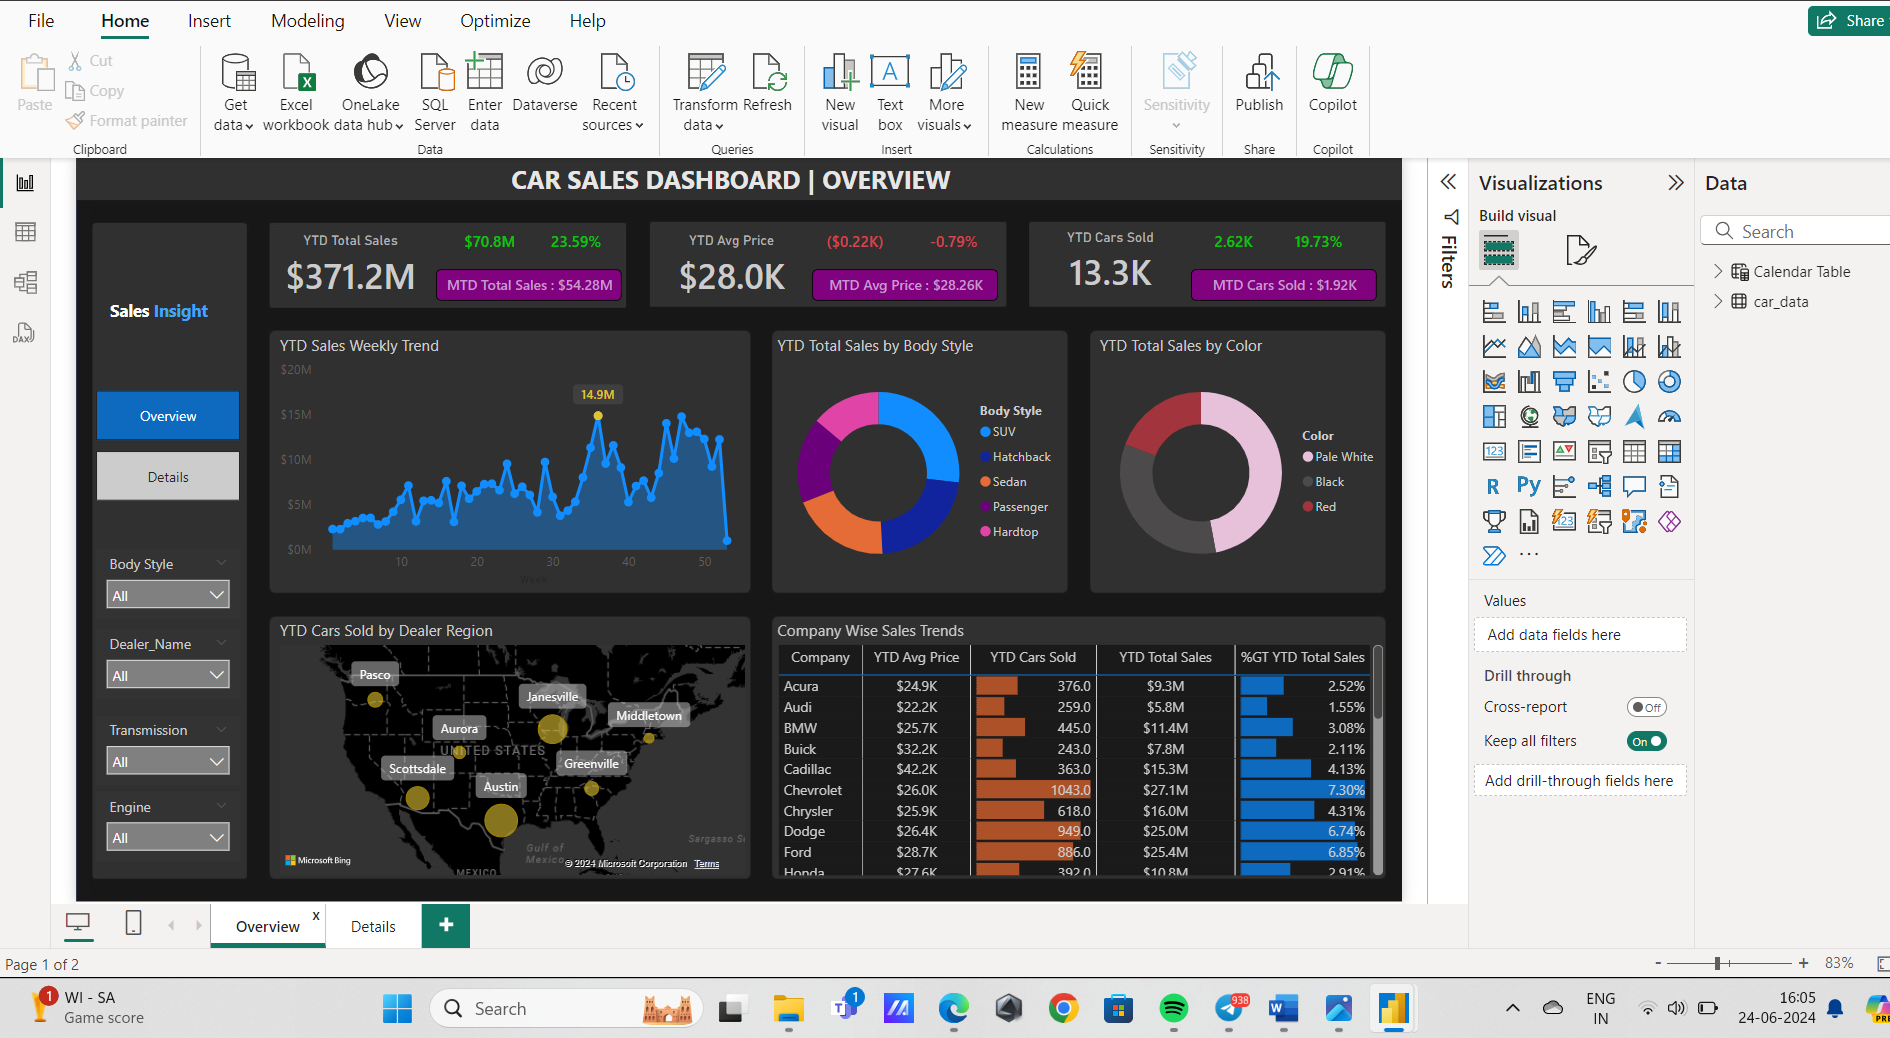

Layout of this report page (visuals, bound fields, positions):
{"tool":"powerbi","page":{"name":"Overview","canvas":[1280,720],"ordinal":0},"visuals":[{"type":"card","title":"YTD Total Sales","fields":{"Values":["car_data.YTD Total Sales"]},"box":[186.9,72.6,155.9,68.2],"z":0},{"type":"card","fields":{"Values":["car_data.Sales Difference"]},"box":[358.9,65.2,82.7,35],"z":1000},{"type":"card","fields":{"Values":["car_data.YoY Sales Growth"]},"box":[441.6,65.2,82.7,35],"z":2000},{"type":"card","fields":{"Values":["car_data.MTD KPI"]},"box":[347.2,107,179,30.2],"z":3000},{"type":"card","title":"YTD Avg Price","fields":{"Values":["car_data.YTD Avg Price"]},"box":[554.4,72.9,155.6,68.1],"z":4000},{"type":"card","fields":{"Values":["car_data.Avg Price Diff"]},"box":[710,65.2,82.7,35],"z":5000},{"type":"card","fields":{"Values":["car_data.YoY Avg Price Growth"]},"box":[805.3,65.2,82.7,35],"z":6000},{"type":"card","fields":{"Values":["car_data.MTD Avg Price KPI"]},"box":[710,107,179,30.2],"z":7000},{"type":"card","title":"YTD Cars Sold","fields":{"Values":["car_data.YTD Cars Sold"]},"box":[920.1,69.1,155.6,68.1],"z":8000},{"type":"card","fields":{"Values":["car_data.Cars Sold Diff"]},"box":[1075.7,65.2,82.7,35],"z":9000},{"type":"card","fields":{"Values":["car_data.YoY Car Sold Growth"]},"box":[1158.4,65.2,82.7,35],"z":10000},{"type":"card","fields":{"Values":["car_data.MTD Cars Sold KPI"]},"box":[1075.7,107,179,30.2],"z":11000},{"type":"areaChart","title":"YTD Sales Weekly Trend","fields":{"Category":["Calendar Table.Week"],"Y":["Sum(car_data.Price ($))","car_data.Max Point on Area Chart"]},"box":[191.6,170.2,459.1,248],"z":12000},{"type":"donutChart","fields":{"Category":["car_data.Body Style"],"Y":["car_data.YTD Total Sales"]},"box":[672.2,170,283.4,248],"z":13000},{"type":"donutChart","fields":{"Y":["car_data.YTD Total Sales"],"Category":["car_data.Color"]},"box":[983,170,283.4,248],"z":14000},{"type":"map","fields":{"Category":["car_data.Dealer_Region"],"Size":["car_data.YTD Cars Sold"]},"box":[191.3,444.6,458.7,252.4],"z":15000},{"type":"tableEx","title":"Company Wise Sales Trends ","fields":{"Values":["car_data.Company","car_data.YTD Avg Price","car_data.YTD Cars Sold","car_data.YTD Total Sales1","car_data.YTD Total Sales"]},"box":[672.2,444.6,594.2,252.4],"z":16000},{"type":"textbox","box":[414.5,0,447.2,41.6],"z":17000},{"type":"slicer","fields":{"Values":["car_data.Body Style"]},"box":[19.5,377.3,139,67.3],"z":18000},{"type":"slicer","fields":{"Values":["car_data.Dealer_Name"]},"box":[19.5,454.3,139,67.3],"z":19000},{"type":"slicer","fields":{"Values":["car_data.Transmission"]},"box":[19.5,537.6,139,67.3],"z":20000},{"type":"slicer","fields":{"Values":["car_data.Engine"]},"box":[19.5,611.1,139,67.3],"z":21000},{"type":"pageNavigator","box":[19.5,224.1,139,107.2],"z":22000},{"type":"textbox","box":[28.3,131.1,130.2,46.9],"z":23000}]}

Visuals, with their boxes on the page's 1280x720 design canvas (x1, y1, x2, y2). These are canvas units, not pixel positions in the 1890x1038 screenshot, which may show the page scaled, cropped or inside an application window:
"YTD Total Sales" card: box=[187, 73, 343, 141]
card - car_data.Sales Difference: box=[359, 65, 442, 100]
card - car_data.YoY Sales Growth: box=[442, 65, 524, 100]
card - car_data.MTD KPI: box=[347, 107, 526, 137]
"YTD Avg Price" card: box=[554, 73, 710, 141]
card - car_data.Avg Price Diff: box=[710, 65, 793, 100]
card - car_data.YoY Avg Price Growth: box=[805, 65, 888, 100]
card - car_data.MTD Avg Price KPI: box=[710, 107, 889, 137]
"YTD Cars Sold" card: box=[920, 69, 1076, 137]
card - car_data.Cars Sold Diff: box=[1076, 65, 1158, 100]
card - car_data.YoY Car Sold Growth: box=[1158, 65, 1241, 100]
card - car_data.MTD Cars Sold KPI: box=[1076, 107, 1255, 137]
"YTD Sales Weekly Trend" areaChart: box=[192, 170, 651, 418]
donutChart - car_data.Body Style x car_data.YTD Total Sales: box=[672, 170, 956, 418]
donutChart - car_data.YTD Total Sales x car_data.Color: box=[983, 170, 1266, 418]
map - car_data.Dealer_Region x car_data.YTD Cars Sold: box=[191, 445, 650, 697]
"Company Wise Sales Trends " tableEx: box=[672, 445, 1266, 697]
textbox: box=[414, 0, 862, 42]
slicer - car_data.Body Style: box=[20, 377, 158, 445]
slicer - car_data.Dealer_Name: box=[20, 454, 158, 522]
slicer - car_data.Transmission: box=[20, 538, 158, 605]
slicer - car_data.Engine: box=[20, 611, 158, 678]
pageNavigator: box=[20, 224, 158, 331]
textbox: box=[28, 131, 158, 178]
